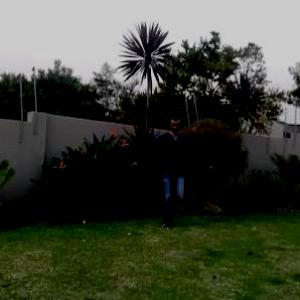land: (119, 107, 215, 230)
